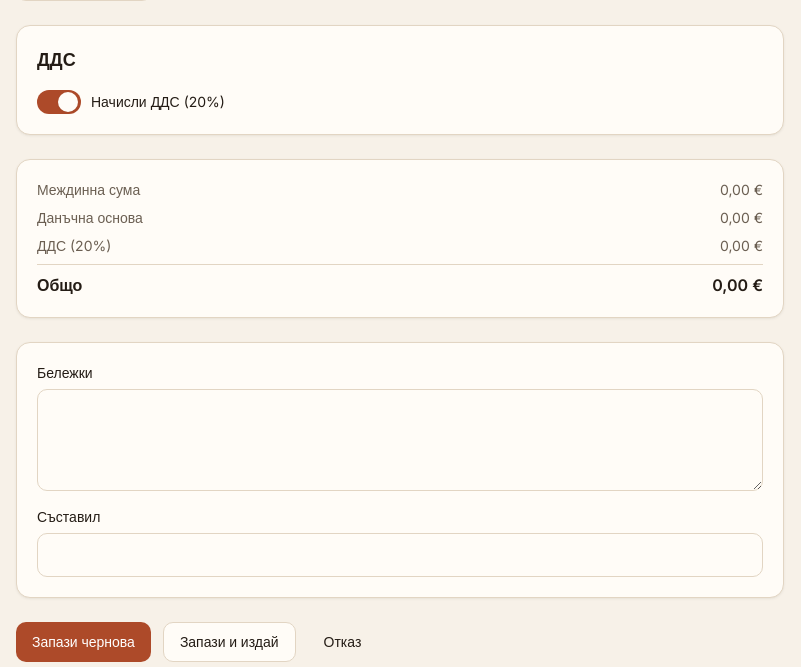
DocumentComposerPage — new document › renders the Bulgarian copy unchanged
(page scrolled)
Expected: the heading "ДДС" is shown, [37,49,76,70]
Expected: the text "Начисли ДДС (20%)" is shown, [37,90,225,114]
Click the button "Запази чернова" at (83, 642), box [16,622,151,662]
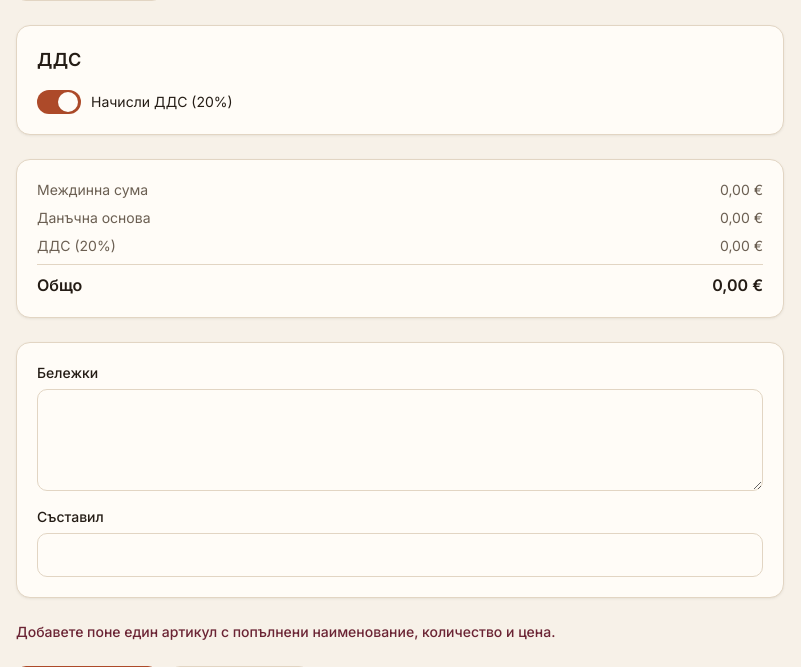
Result: the text "Добавете поне един артикул с попълнени наименование, количество и цена." is shown at [16,623,555,640]
